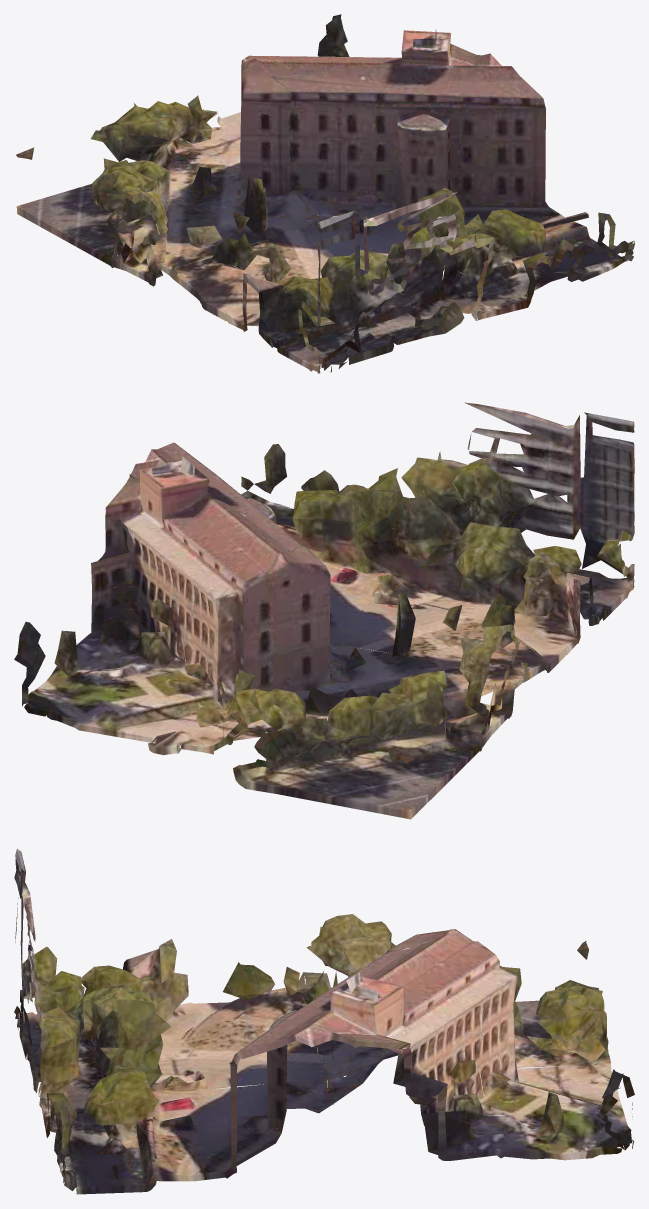
3 renders of one model, top to bottom at view 1: azimuth 30°, elevation 25°; view 2: azimuth 150°, elevation 25°; view 3: azimuth 270°, elevation 25°, orthographic. The views are drawn at different scales.
Visible parts, largest first — view 1: Mesh_0; view 2: Mesh_0; view 3: Mesh_0.
Boxes of the visible parts, <box> form: Mesh_0: <box>16,14,634,373</box>; Mesh_0: <box>14,402,634,819</box>; Mesh_0: <box>14,848,634,1194</box>.
Bounding box in the file's own units: 67.16 × 29.08 × 82.61.
Materials: 2 (2 with a texture image).
